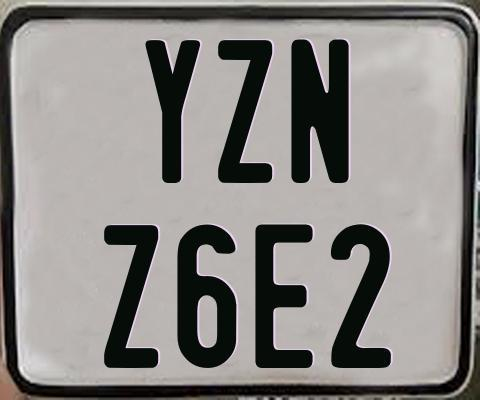2: (329, 224, 395, 374)
6: (174, 224, 236, 371)
E: (253, 224, 311, 374)
N: (290, 39, 352, 184)
Y: (142, 38, 202, 186)
Z: (215, 40, 272, 188), (102, 222, 159, 365)
